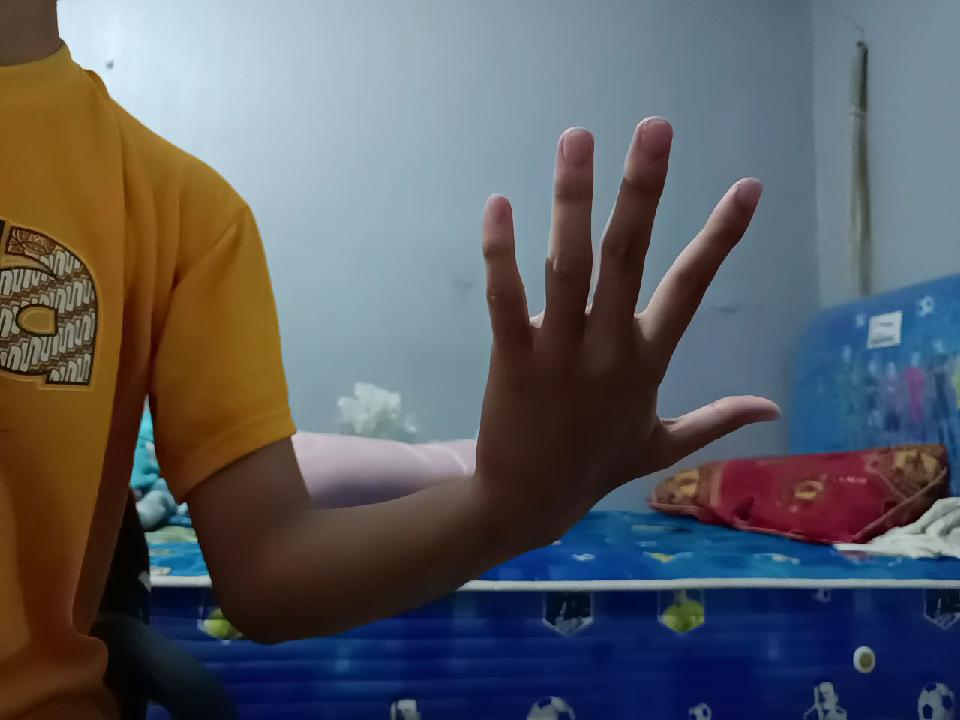paper: (457, 134, 751, 536)
